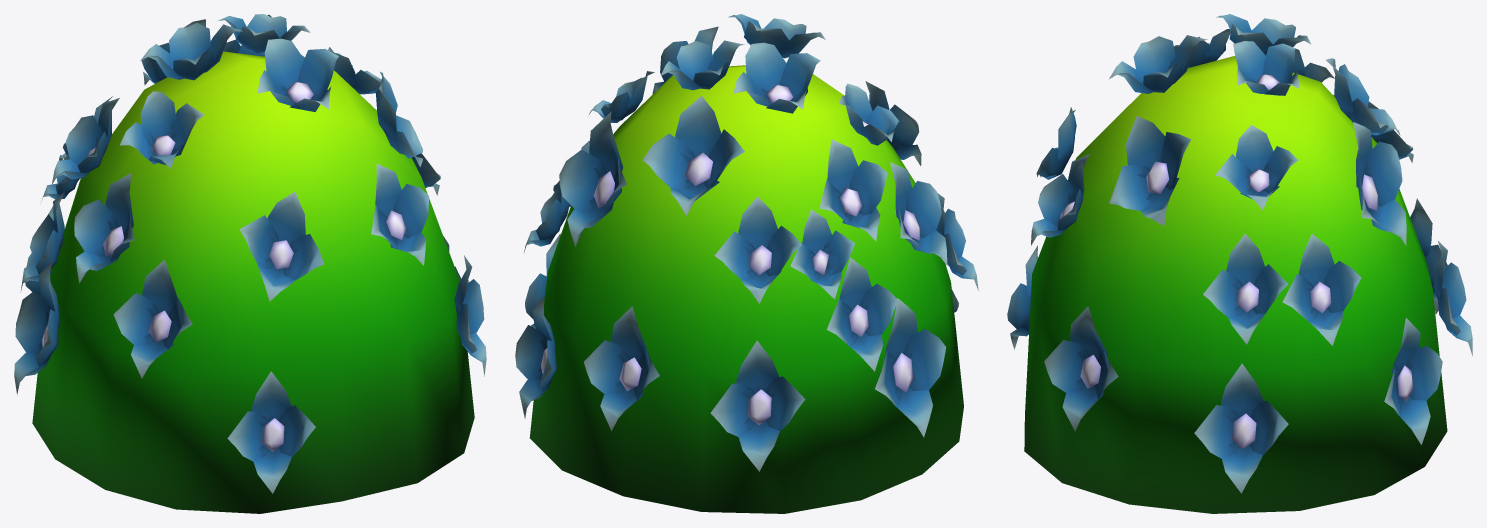
Rendered from Bush3_LOD1.fbx.
3 renders of one model, left to right at view 1: azimuth 30°, elevation 25°; view 2: azimuth 150°, elevation 25°; view 3: azimuth 270°, elevation 25°, orthographic.
Parts seen in each view (by area): view 1: Bush3; view 2: Bush3; view 3: Bush3.
Part boxes in pixels (x1,y1,x2,y2): Bush3: (14, 14, 486, 513); Bush3: (515, 14, 978, 513); Bush3: (1007, 14, 1472, 513).
Size of the model in its own units: 82.83 by 73.76 by 80.3.
Materials: 1 (1 with a texture image).
